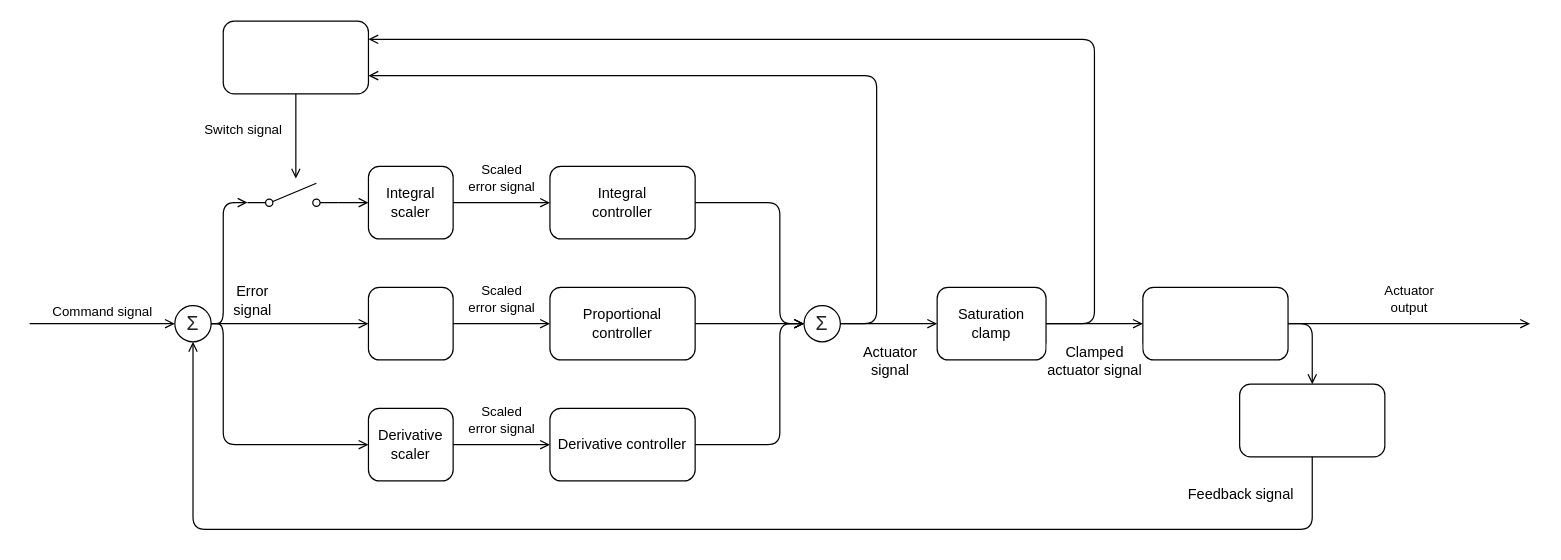
Image size: 1561x560. Some labels were removed from this diagram. The shapes that lost their labels are listed below. From the top down, each one's centre as x and y in pixels, then its label:
At point 295,57: "Integrator cutoff comparator".
At point 410,323: "Proportional scaler".
At point 1215,323: "Dc-motor".
At point 1311,420: "Rotary encoder".
